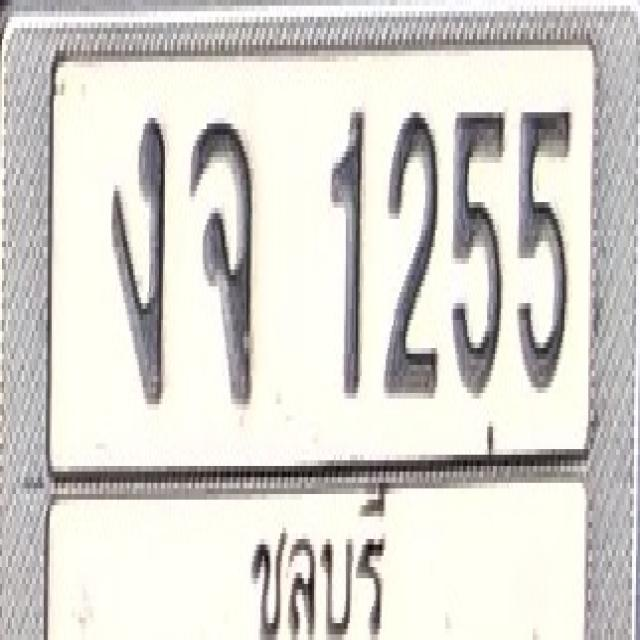1: (329, 101, 365, 393)
2: (383, 104, 438, 396)
5: (451, 101, 505, 393), (516, 101, 571, 387)
A07: (109, 110, 167, 402)
A08: (189, 115, 254, 401)
CBI: (236, 493, 394, 640)
